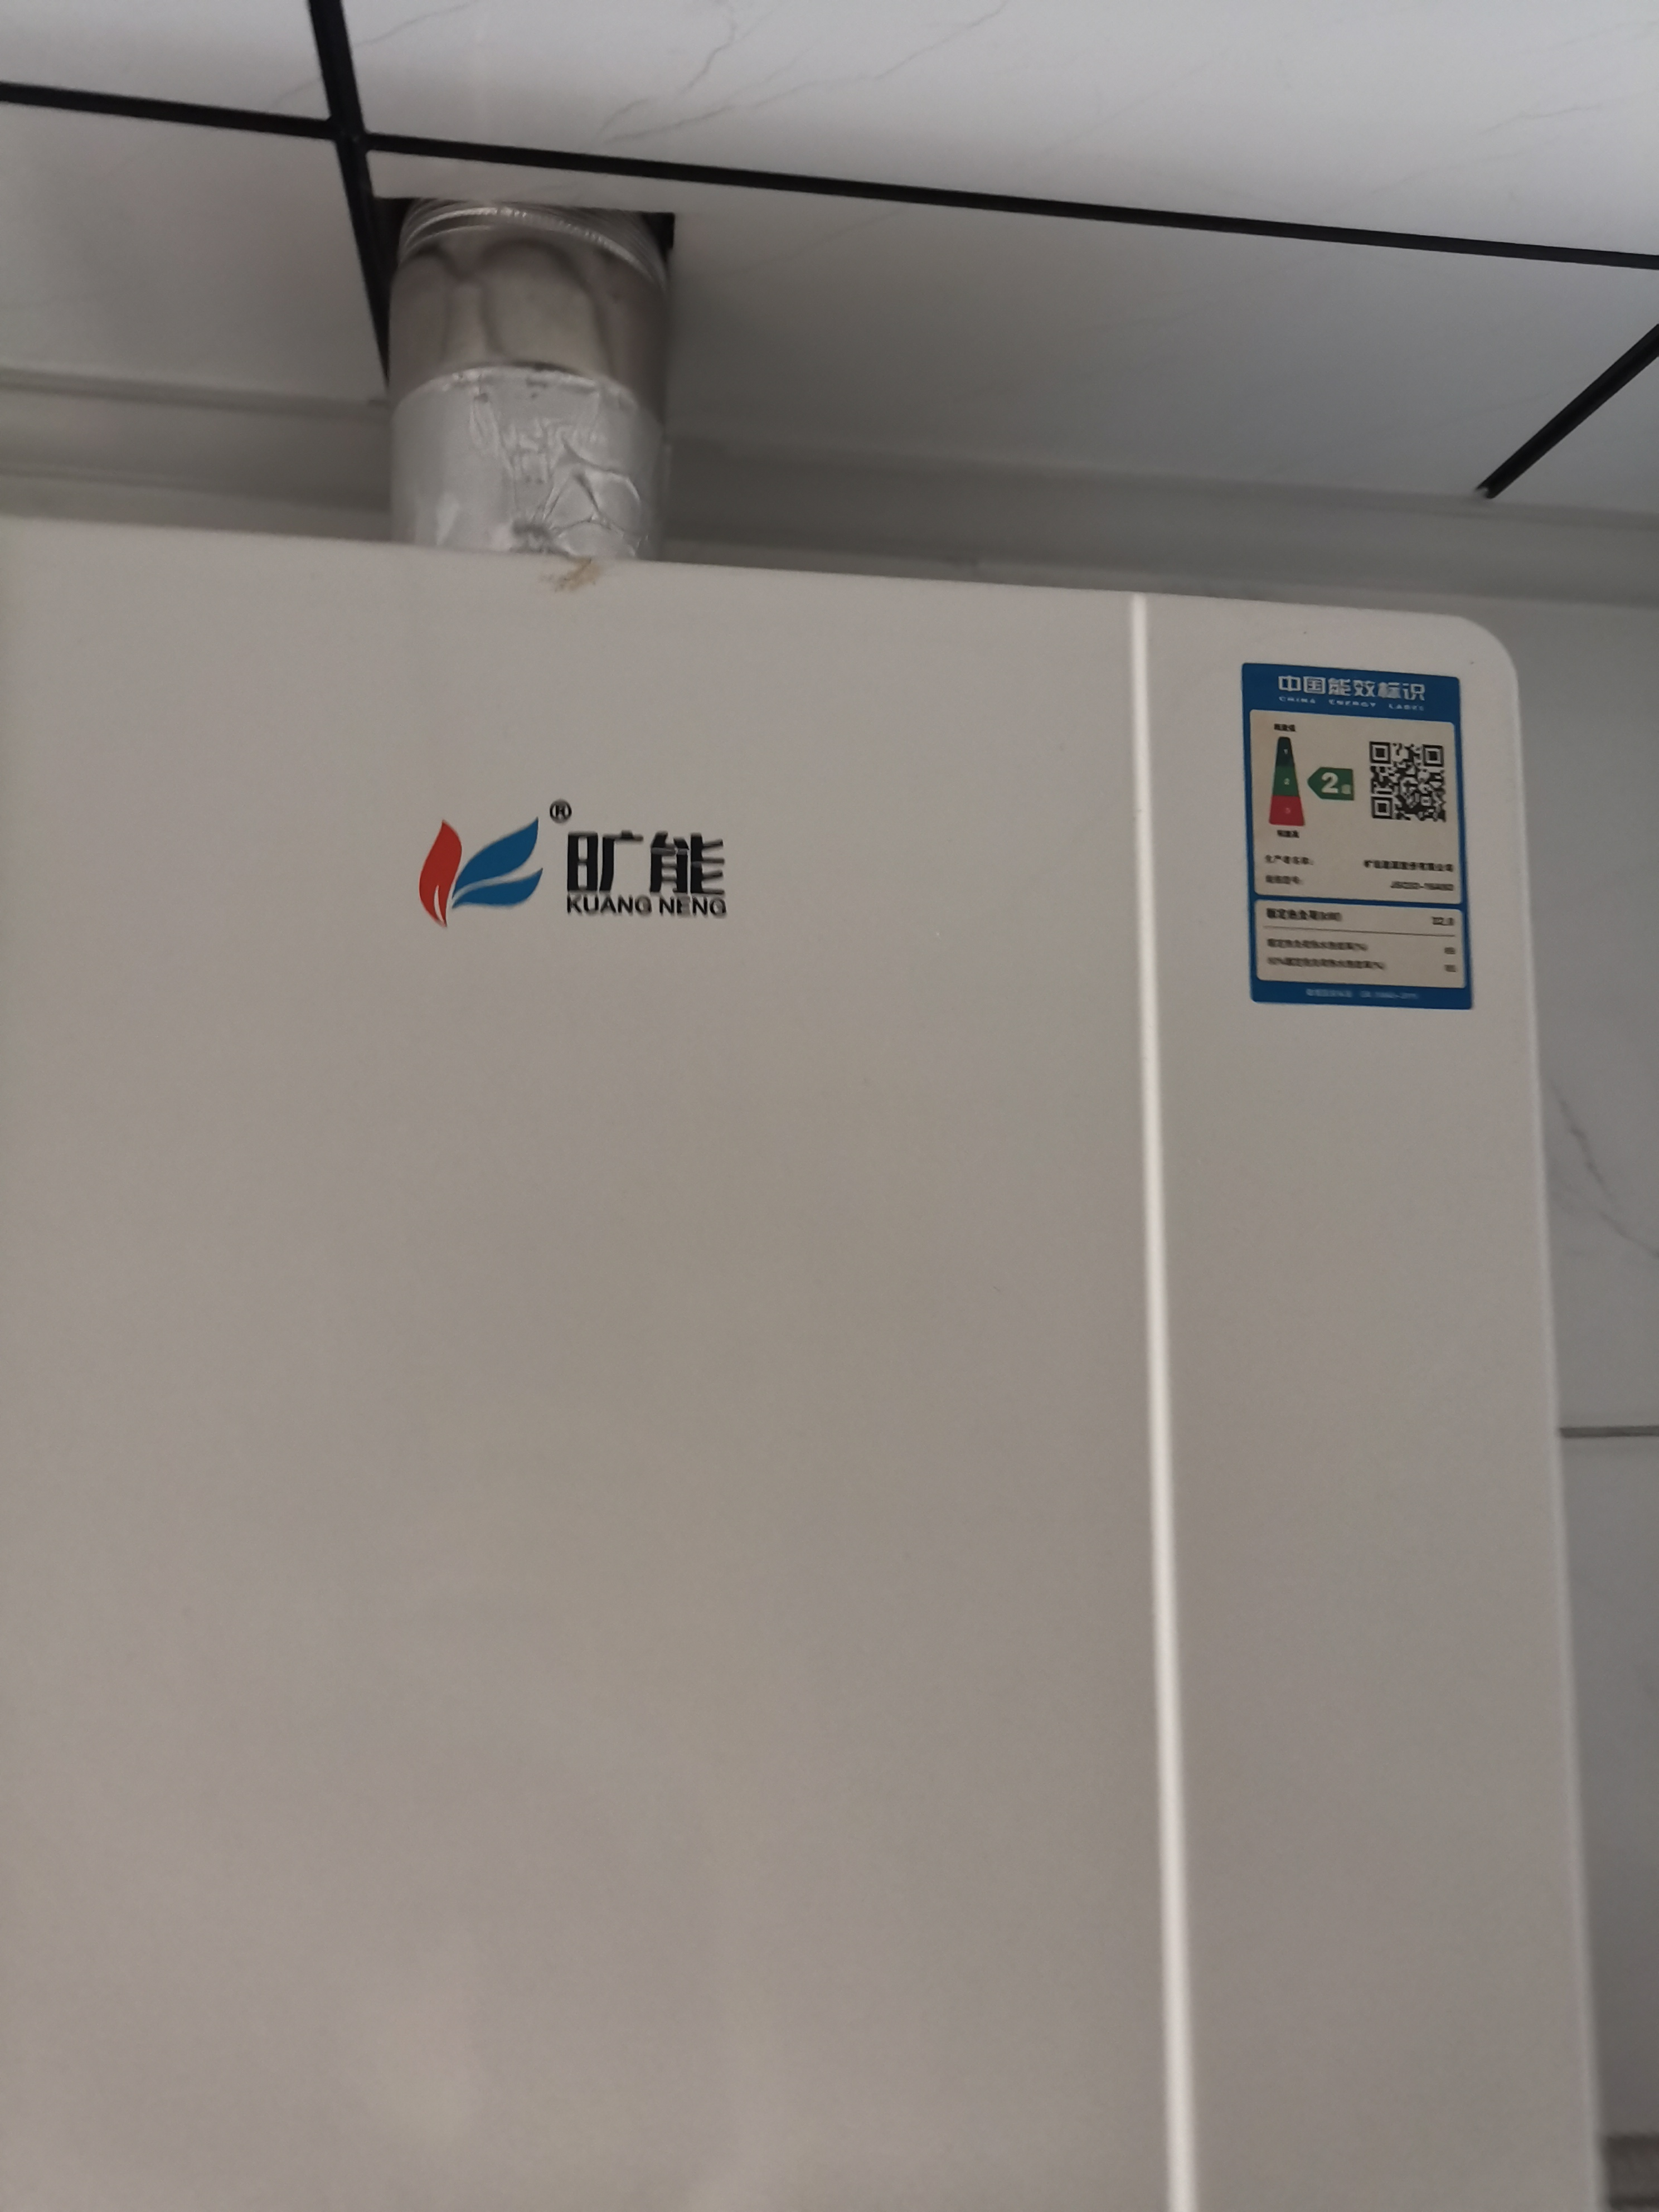loudou: (380, 772, 749, 935)
